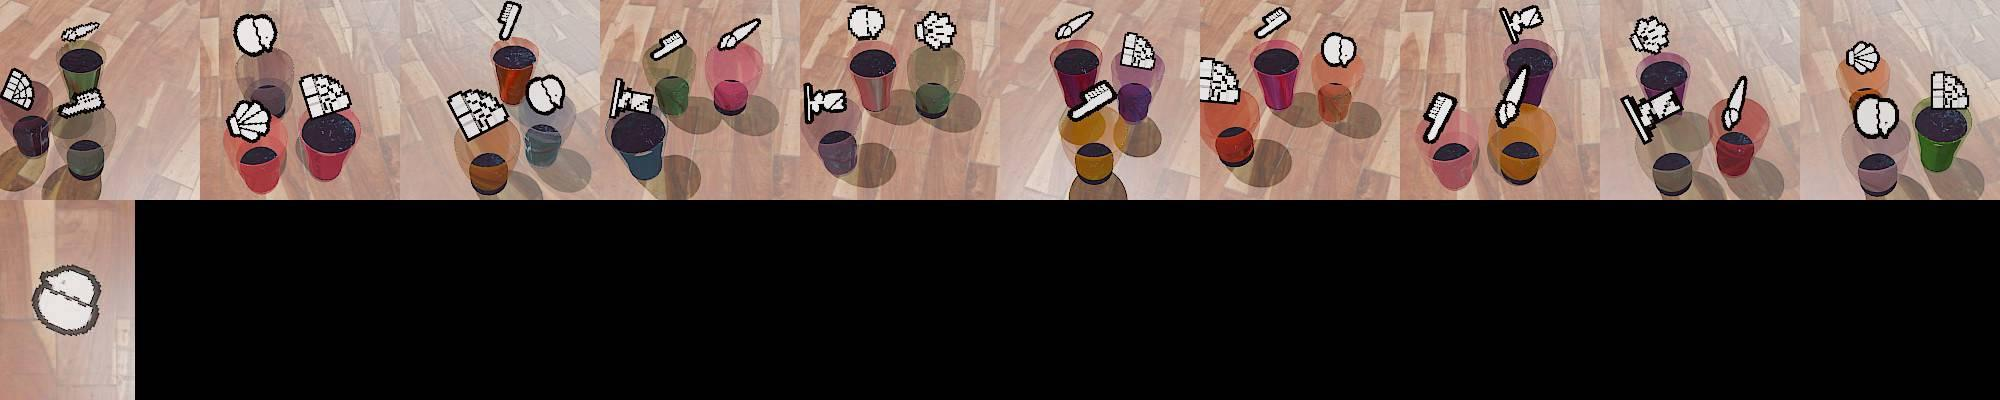icon: (30, 264, 103, 336), (1621, 84, 1685, 144), (446, 87, 511, 142), (298, 72, 351, 119), (1851, 89, 1899, 140), (1064, 79, 1117, 123), (1494, 64, 1529, 127), (226, 97, 273, 143), (608, 76, 657, 120), (232, 13, 277, 57), (1422, 90, 1457, 144), (803, 81, 848, 123), (1199, 56, 1239, 103), (914, 9, 957, 52), (1499, 4, 1544, 45), (525, 73, 566, 115), (1720, 73, 1748, 131), (1630, 15, 1671, 54), (716, 18, 762, 52), (1928, 71, 1966, 111), (1, 68, 37, 110), (1118, 31, 1157, 69), (847, 5, 886, 41), (1321, 31, 1357, 68), (1253, 6, 1291, 40), (1055, 9, 1093, 41), (1847, 40, 1882, 74), (650, 29, 686, 60), (496, 1, 522, 41), (57, 95, 97, 117), (61, 20, 99, 43)
